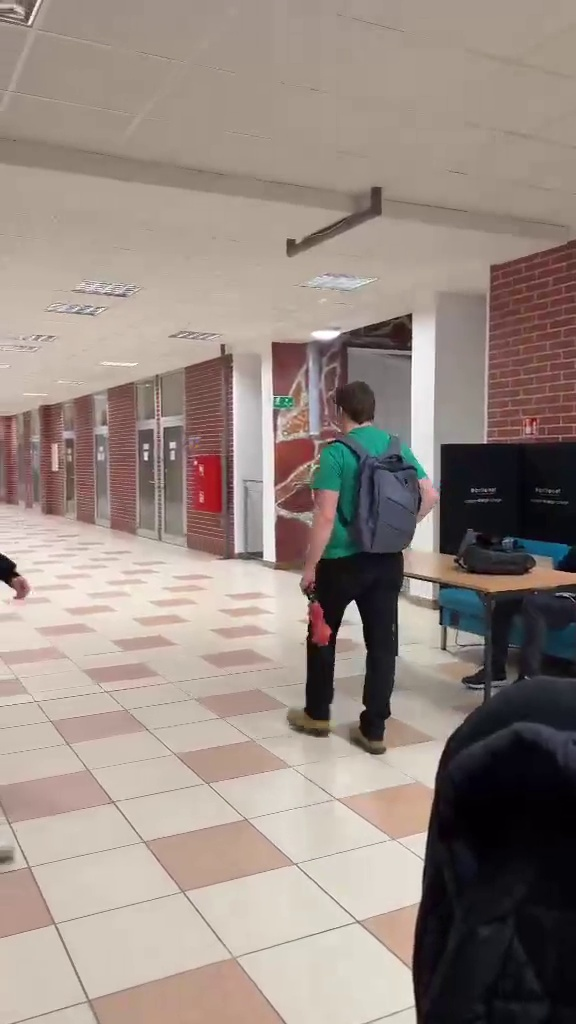no vest: (295, 374, 440, 742)
